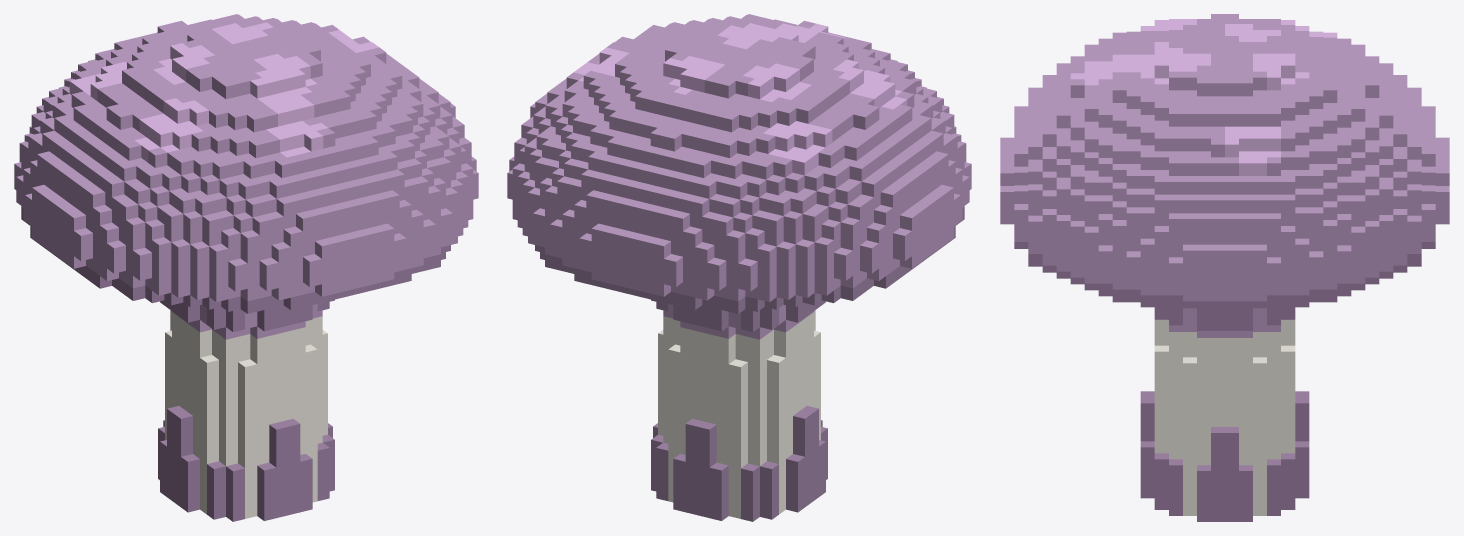
Rendered from mushroom.glb.
3 views of the same model, side by side, from view 1: azimuth 30°, elevation 25°; view 2: azimuth 150°, elevation 25°; view 3: azimuth 270°, elevation 25° (orthographic).
Parts seen in each view (by area): view 1: item; view 2: item; view 3: item.
Boxes of the visible parts, x1,y1,x2,y2 form: item: [14, 14, 478, 521]; item: [507, 14, 971, 521]; item: [1000, 14, 1449, 521].
Bounding box in the file's own units: 32 × 34 × 32.
